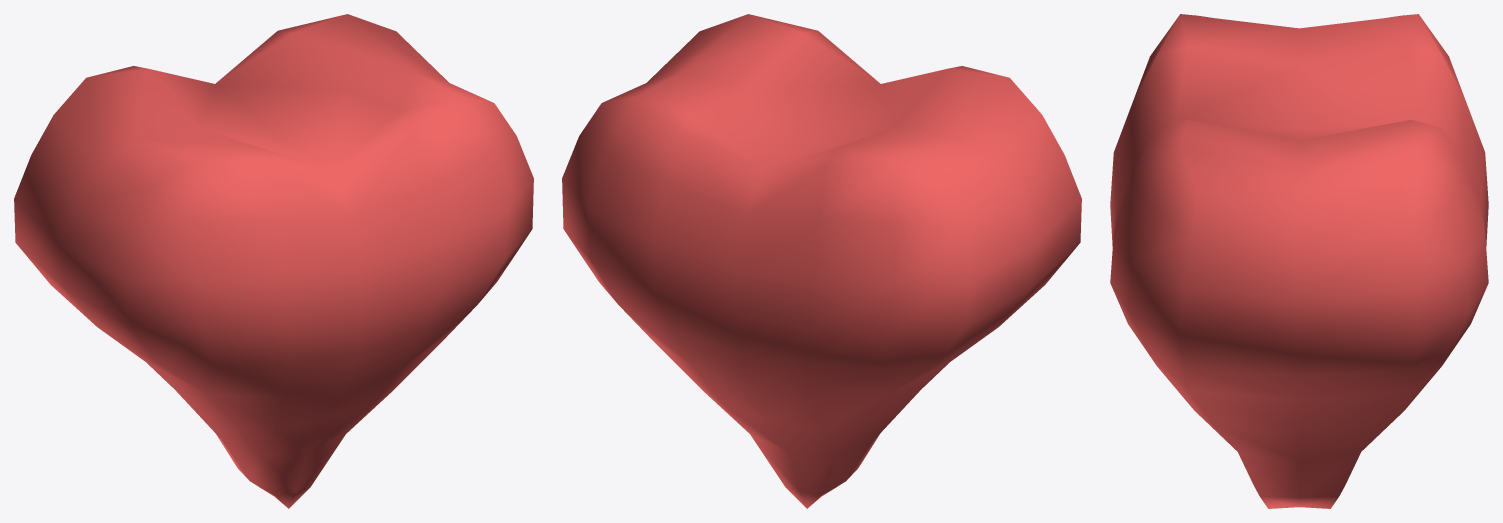
File: Heart.fbx
3 views of the same model, side by side, from view 1: azimuth 30°, elevation 25°; view 2: azimuth 150°, elevation 25°; view 3: azimuth 270°, elevation 25° (orthographic). The views are drawn at different scales.
Parts seen in each view (by area): view 1: Plane002; view 2: Plane002; view 3: Plane002.
Boxes of the visible parts, bbox=[...] form: Plane002: bbox=[14, 14, 533, 508]; Plane002: bbox=[562, 14, 1081, 508]; Plane002: bbox=[1110, 14, 1488, 508].
Size of the model in its own units: 9.73 by 8.9 by 7.13.
